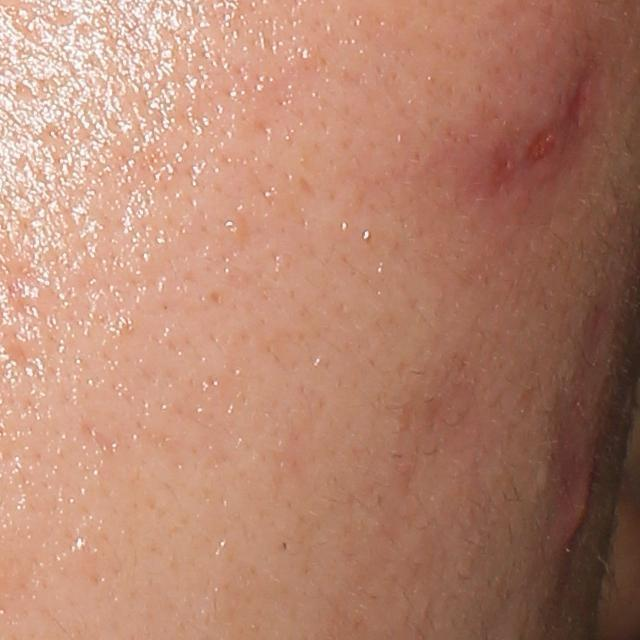atrophic_scar: (524, 125, 559, 165), (567, 73, 590, 127)
papule: (547, 409, 599, 561)
